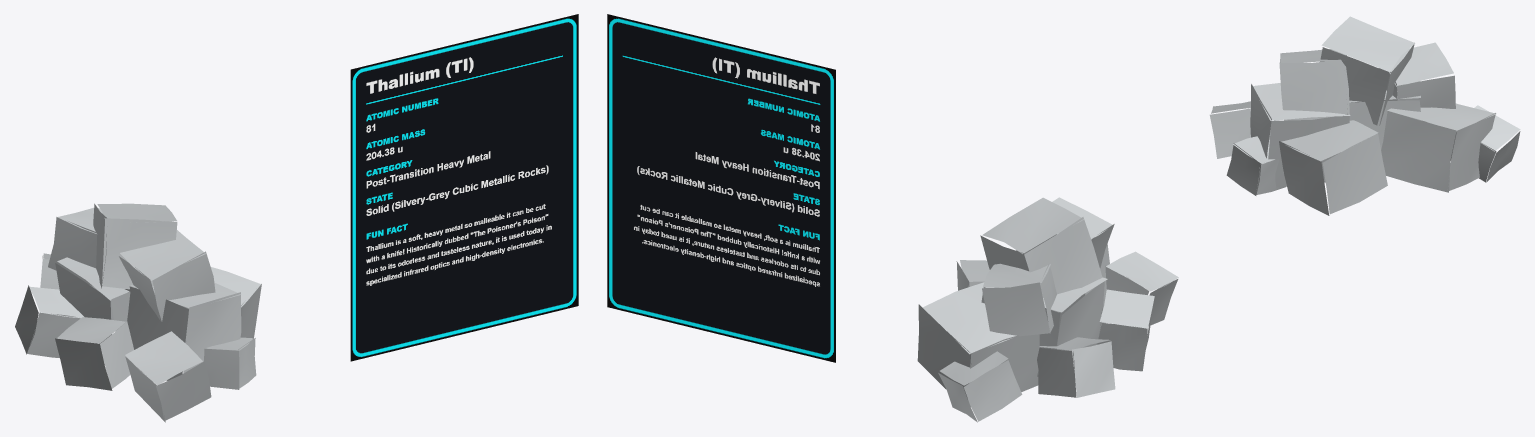
Rendered from thallium.glb.
3 renders of one model, left to right at view 1: azimuth 30°, elevation 25°; view 2: azimuth 150°, elevation 25°; view 3: azimuth 270°, elevation 25°, orthographic. The views are drawn at different scales.
Parts seen in each view (by area): view 1: Mesh_13, Mesh_1, Mesh_7, Mesh_5, Mesh_4, Mesh_9, Mesh_10, Mesh_0, Mesh_6, Mesh_11, Mesh_3; view 2: Mesh_13, Mesh_2, Mesh_4, Mesh_6, Mesh_10, Mesh_8, Mesh_9, Mesh_0, Mesh_7, Mesh_5, Mesh_3; view 3: Mesh_2, Mesh_3, Mesh_4, Mesh_5, Mesh_1, Mesh_6, Mesh_11, Mesh_8, Mesh_7, Mesh_0.
Part boxes in pixels (left/top/right/bottom): Mesh_13: left=350, top=14, right=578, bottom=361; Mesh_1: left=125, top=282, right=241, bottom=380; Mesh_7: left=125, top=331, right=211, bottom=422; Mesh_5: left=119, top=230, right=215, bottom=321; Mesh_4: left=93, top=203, right=177, bottom=289; Mesh_9: left=55, top=317, right=133, bottom=390; Mesh_10: left=15, top=285, right=84, bottom=357; Mesh_0: left=55, top=257, right=130, bottom=343; Mesh_6: left=48, top=207, right=102, bottom=286; Mesh_11: left=204, top=337, right=256, bottom=389; Mesh_3: left=211, top=267, right=261, bottom=338; Mesh_13: left=607, top=14, right=835, bottom=362; Mesh_2: left=917, top=282, right=1039, bottom=406; Mesh_4: left=980, top=197, right=1102, bottom=297; Mesh_6: left=982, top=263, right=1059, bottom=336; Mesh_10: left=1037, top=337, right=1115, bottom=397; Mesh_8: left=938, top=351, right=1022, bottom=422; Mesh_9: left=1097, top=289, right=1154, bottom=371; Mesh_0: left=981, top=277, right=1107, bottom=376; Mesh_7: left=1105, top=251, right=1178, bottom=326; Mesh_5: left=1016, top=197, right=1114, bottom=267; Mesh_3: left=956, top=260, right=989, bottom=290; Mesh_2: left=1381, top=103, right=1496, bottom=192; Mesh_3: left=1279, top=120, right=1387, bottom=215; Mesh_4: left=1320, top=16, right=1415, bottom=125; Mesh_5: left=1279, top=49, right=1349, bottom=120; Mesh_1: left=1250, top=83, right=1350, bottom=187; Mesh_6: left=1379, top=42, right=1455, bottom=122; Mesh_11: left=1226, top=136, right=1286, bottom=195; Mesh_8: left=1450, top=105, right=1520, bottom=182; Mesh_7: left=1209, top=101, right=1270, bottom=158; Mesh_0: left=1349, top=81, right=1421, bottom=149.
Size of the model in its own units: 6.16 by 3.23 by 3.34.
2 materials, 1 textured.
